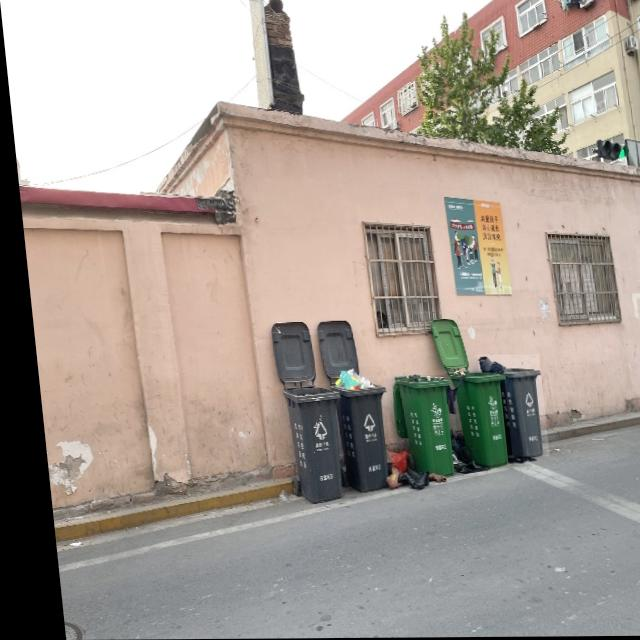garbage: (373, 450, 436, 490), (439, 429, 479, 474)
garbage_bin: (274, 384, 339, 505), (383, 376, 448, 476), (442, 371, 504, 471)
overflow: (321, 367, 385, 491), (469, 355, 540, 457)
